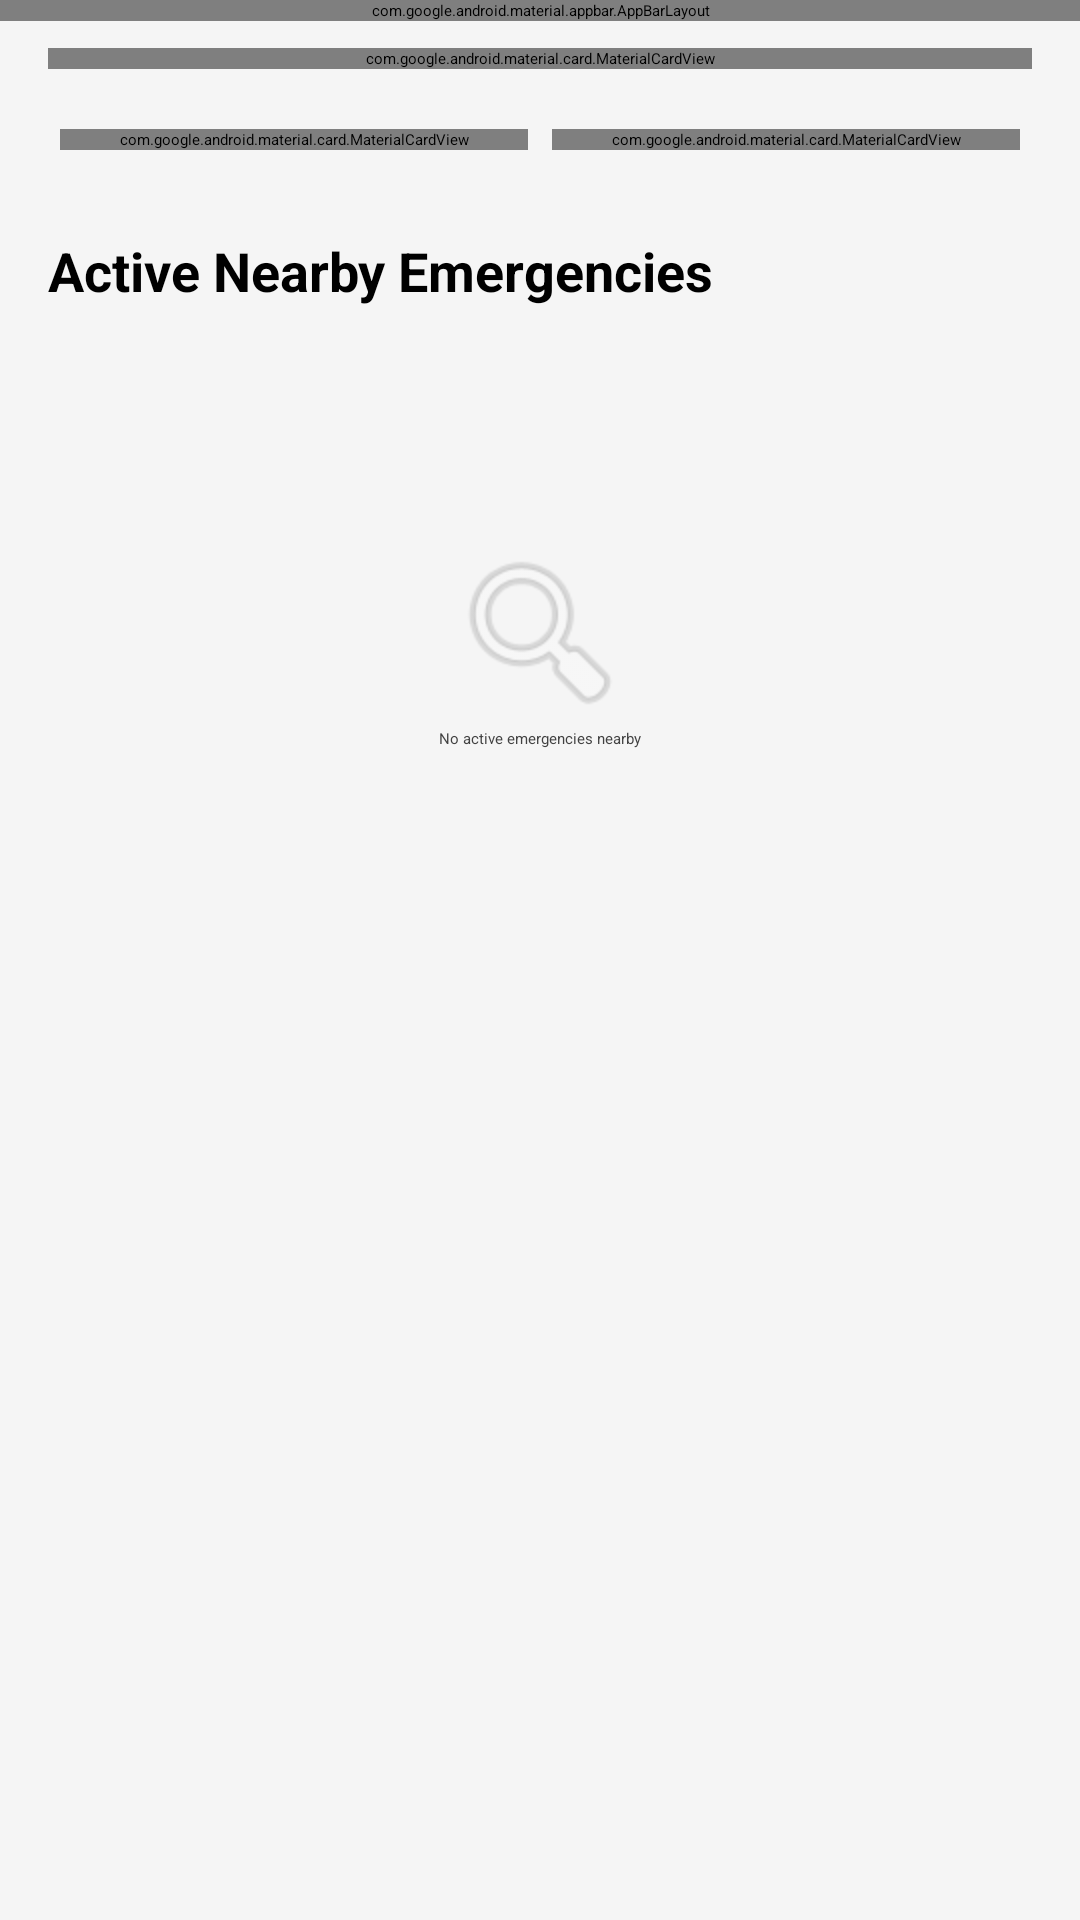

Named icons in this screenshot (1080 x 1920) and their bounding boxes, (x1,y1,x2,y2):
search: (471,563,609,702)
